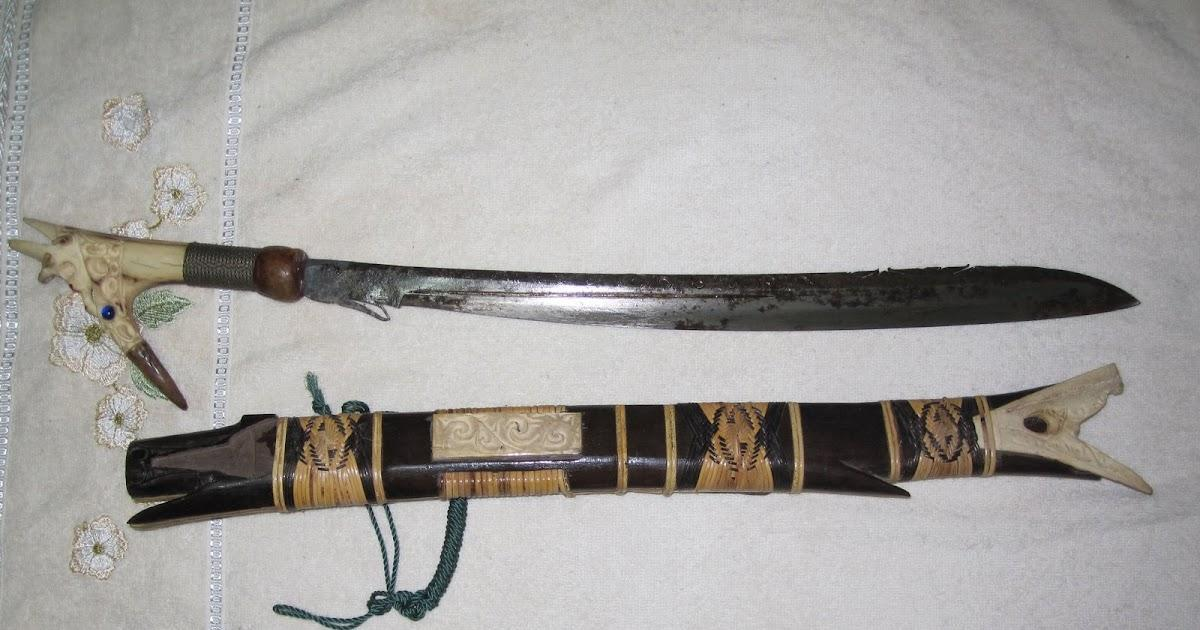espada: (28, 127, 1138, 415), (97, 319, 1200, 531)
